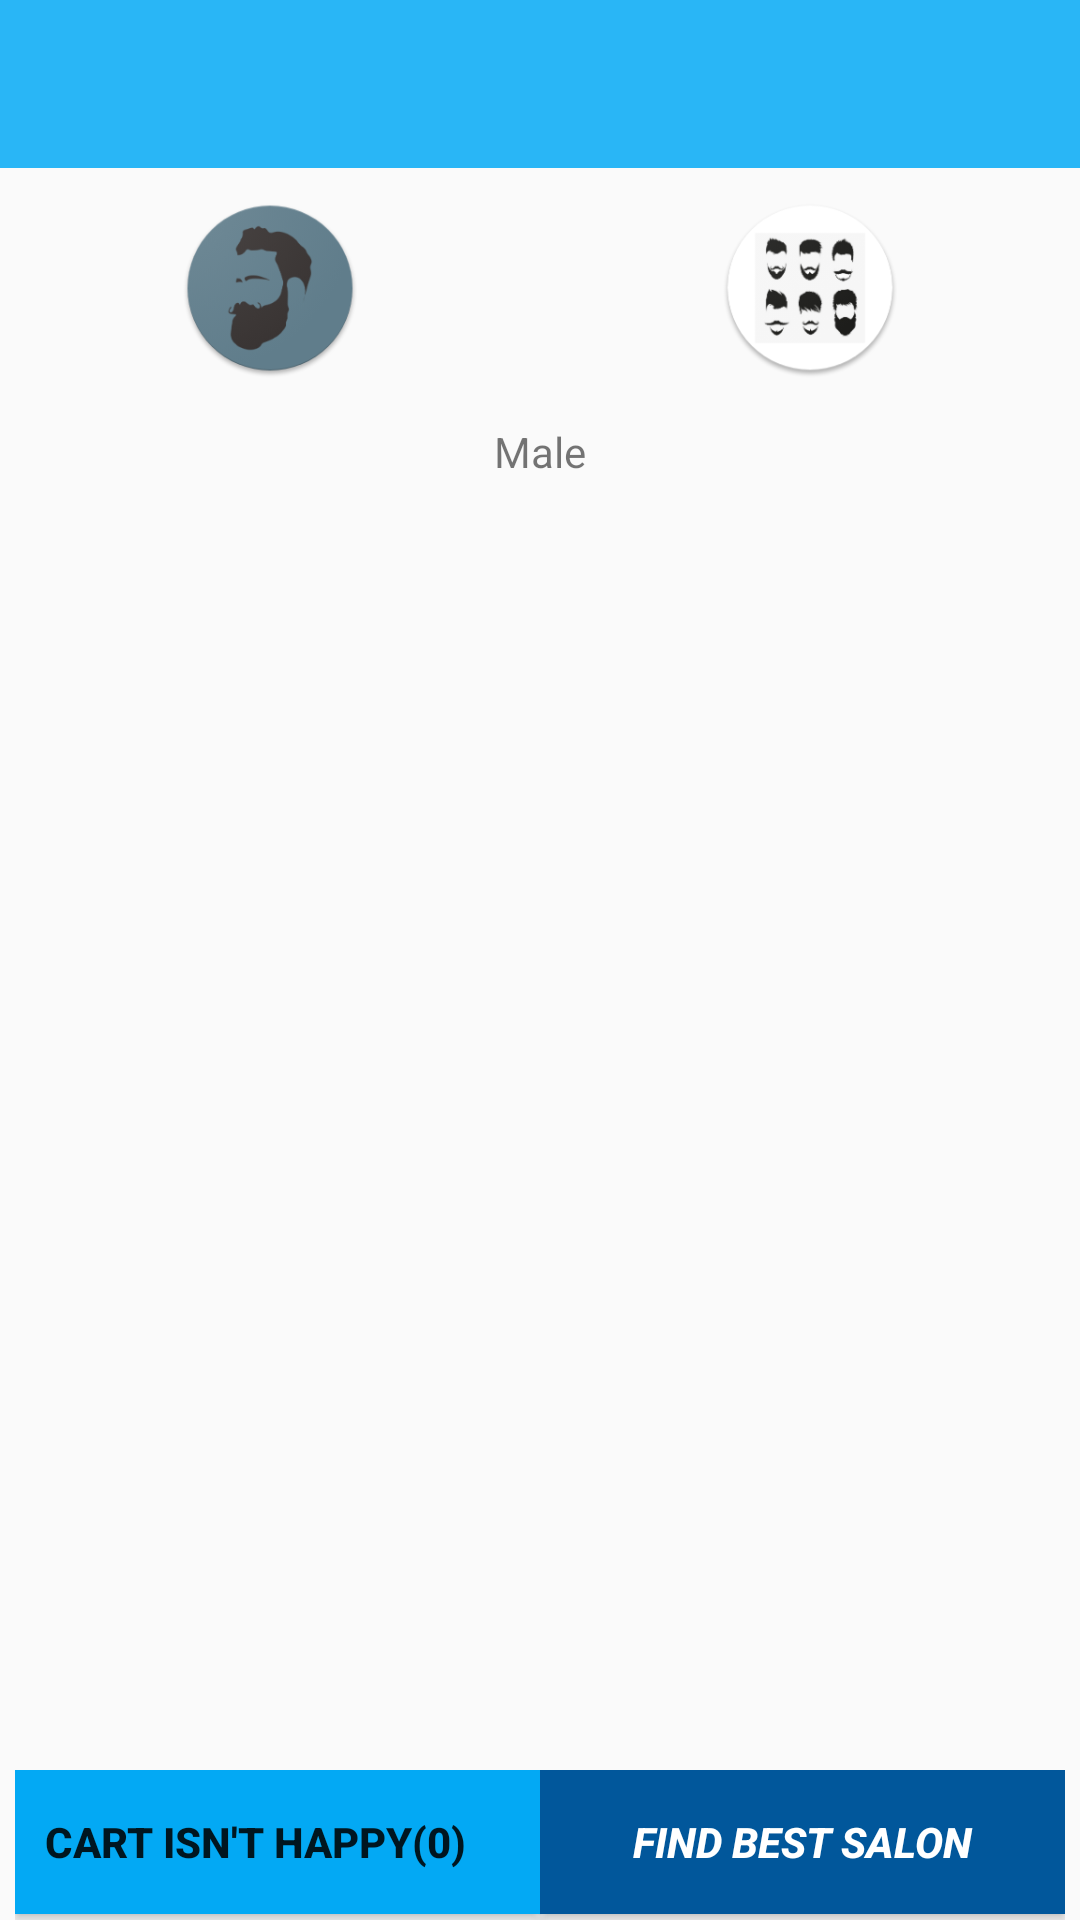

Icons on this 1080px x 1920px Android screen, each with its box as (x1,y1,x2,y2):
left face: (187,205,354,374)
